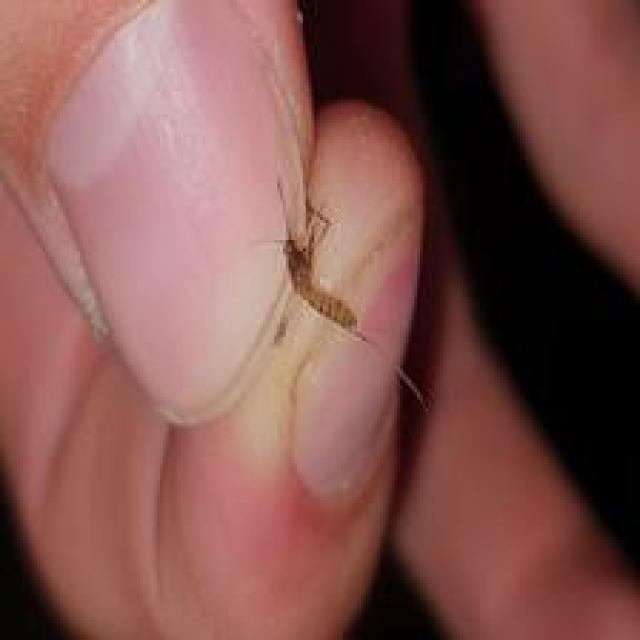Culex: (0, 0, 429, 437)
